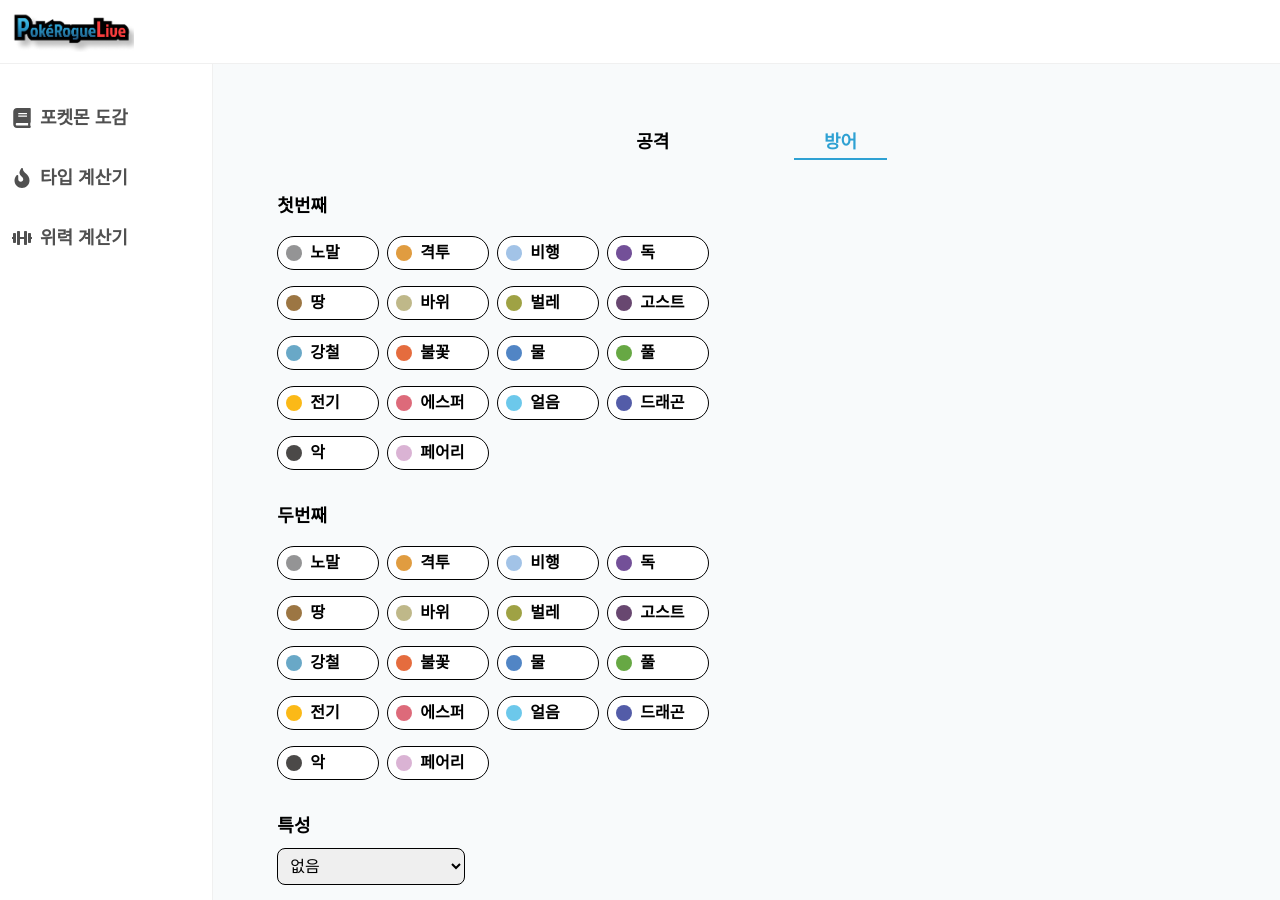
Test case: 타입 계산기 페이지 테스트 › 방어 모드에서 타입 버튼 클릭 시 타입이 체크되며 해당 타입에 받는 피해 맵을 렌더링합니다.
The width and height of the screenshot is (1280, 900).
Click the button "노말" below "첫번째": [328, 253] box [277,236,379,270]
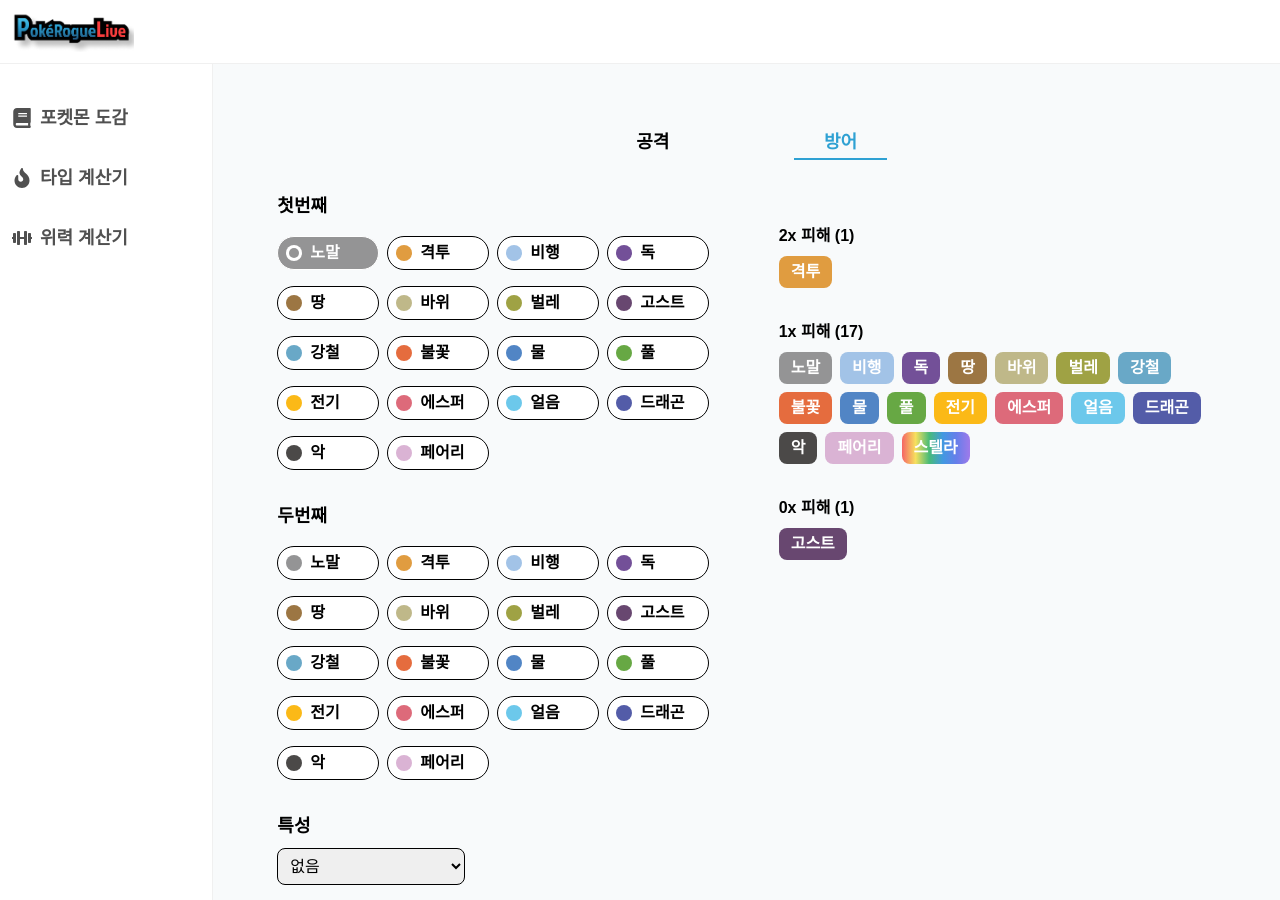
Click the button "격투" below "두번째": [438, 563] box [387,546,489,580]
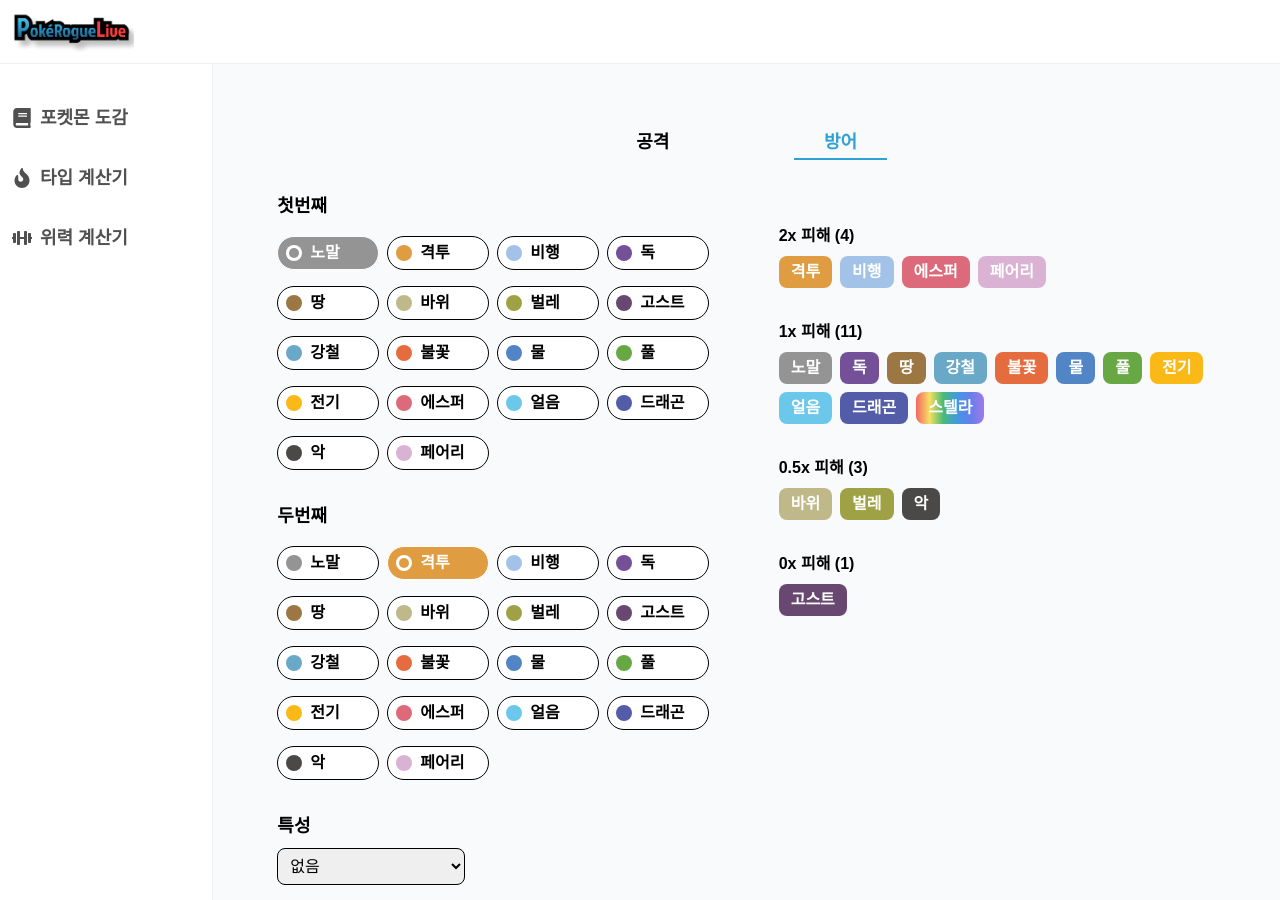
Now the text with class "type-defend-result" reads "2x 피해 (4)", box [779,227,855,244]
Now the text with class "type-defend-result" reads "1x 피해 (11)", box [779,323,863,340]
Now the text with class "type-defend-result" reads "0.5x 피해 (3)", box [779,459,868,476]
